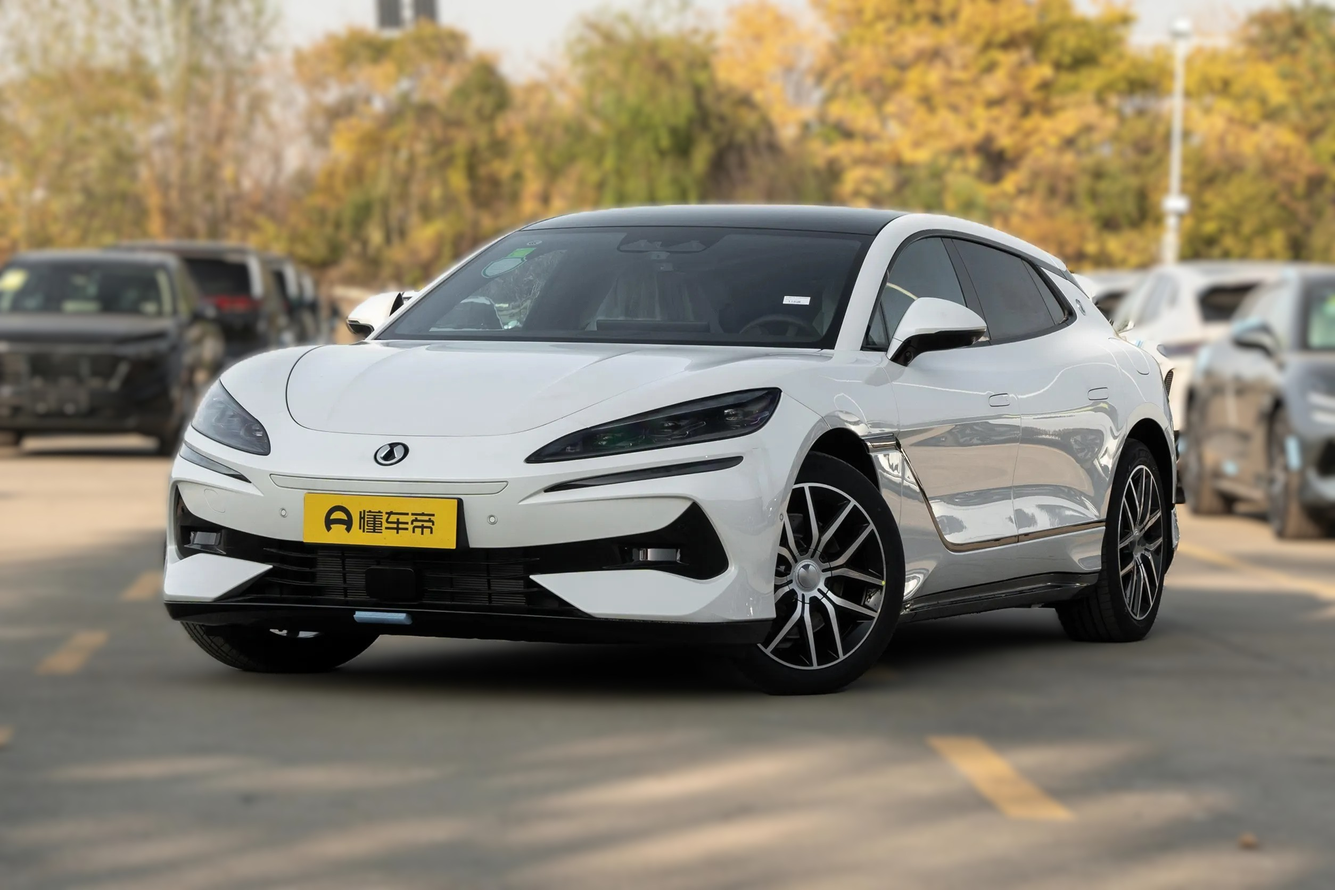DENZA: (377, 444, 403, 463)
